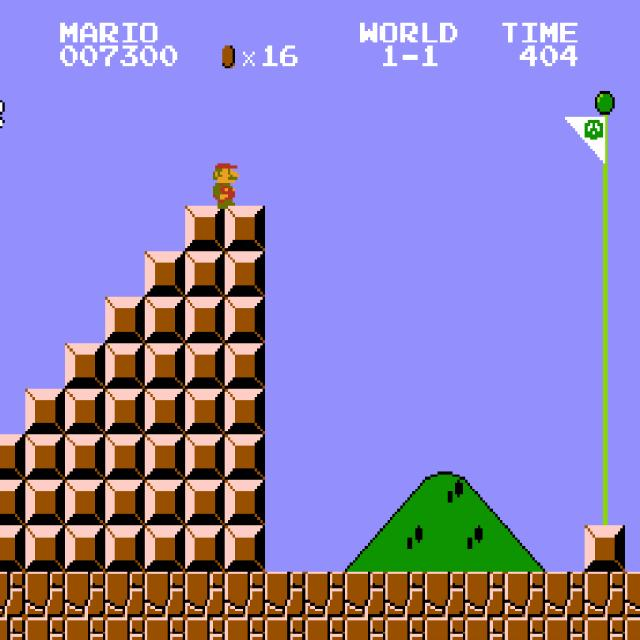goal_pole: (585, 114, 625, 160), (585, 160, 625, 206), (585, 297, 625, 343), (585, 434, 625, 480), (585, 480, 625, 526), (585, 69, 625, 114), (585, 206, 625, 251), (585, 252, 625, 297), (585, 343, 625, 388), (585, 389, 625, 434)
hard_block: (25, 434, 65, 480), (25, 480, 65, 526), (65, 434, 105, 480), (65, 480, 105, 526), (105, 297, 145, 343), (105, 434, 145, 480), (105, 480, 145, 526), (145, 297, 185, 343), (145, 434, 185, 480), (145, 480, 185, 526), (185, 297, 225, 343), (185, 434, 225, 480), (185, 480, 225, 526), (225, 297, 265, 343), (225, 434, 265, 480), (225, 480, 265, 526), (25, 389, 65, 434), (25, 526, 65, 571), (65, 343, 105, 388), (65, 389, 105, 434), (65, 526, 105, 571), (105, 343, 145, 388), (105, 389, 145, 434), (105, 526, 145, 571), (145, 252, 185, 297), (145, 343, 185, 388), (145, 389, 185, 434), (145, 526, 185, 571), (185, 206, 225, 251), (185, 252, 225, 297), (185, 343, 225, 388), (185, 389, 225, 434), (185, 526, 225, 571), (225, 206, 265, 251), (225, 252, 265, 297), (225, 343, 265, 388), (225, 389, 265, 434), (225, 526, 265, 571), (585, 526, 625, 571), (0, 525, 25, 571), (0, 434, 25, 479), (0, 480, 25, 525)
little_mario: (203, 160, 245, 208)
undestructible_block: (25, 572, 65, 617), (65, 572, 105, 617), (105, 572, 145, 617), (145, 572, 185, 617), (185, 572, 225, 617), (225, 572, 265, 617), (265, 572, 305, 617), (305, 572, 345, 617), (345, 572, 385, 617), (385, 572, 425, 617), (425, 572, 465, 617), (465, 572, 505, 617), (505, 572, 545, 617), (545, 572, 585, 617), (585, 572, 625, 617), (0, 571, 25, 617), (25, 617, 65, 640), (65, 617, 105, 640), (105, 617, 145, 640), (145, 617, 185, 640), (185, 617, 225, 640), (225, 617, 265, 640), (265, 617, 305, 640), (305, 617, 345, 640), (345, 617, 385, 640), (385, 617, 425, 640), (425, 617, 465, 640), (465, 617, 505, 640), (505, 617, 545, 640), (545, 617, 585, 640), (585, 617, 625, 640), (625, 572, 640, 617), (0, 617, 25, 639), (625, 617, 640, 640)
